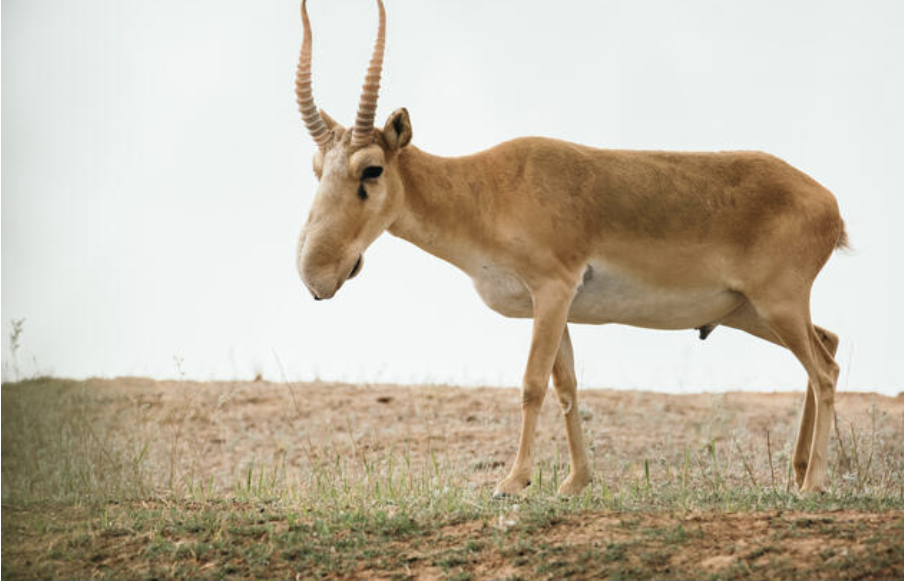saiga: (268, 3, 855, 491)
